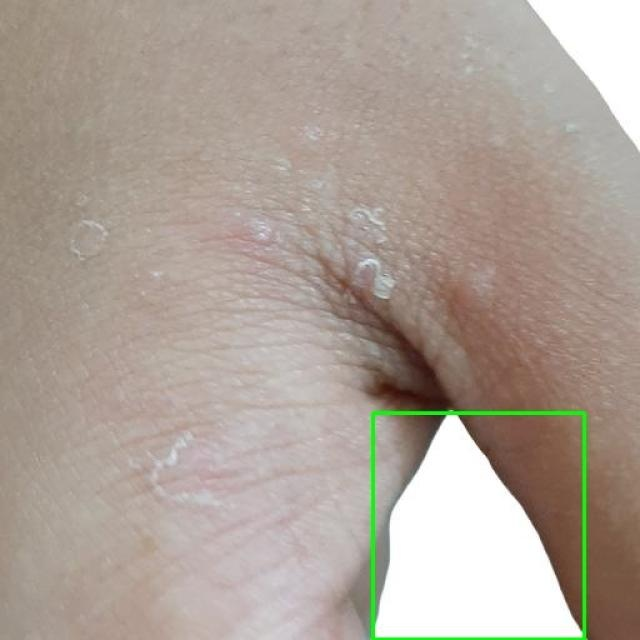Scabies: (372, 412, 584, 639)
